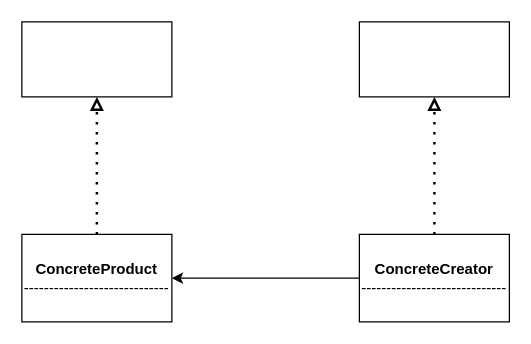
Image size: 531x344. Some labels were removed from this diagram. Here are the shapes that lost their labels. From the top down, the centre of each, then its label:
(x=96, y=59): Product -----------------------------
(x=433, y=59): Creator -----------------------------
